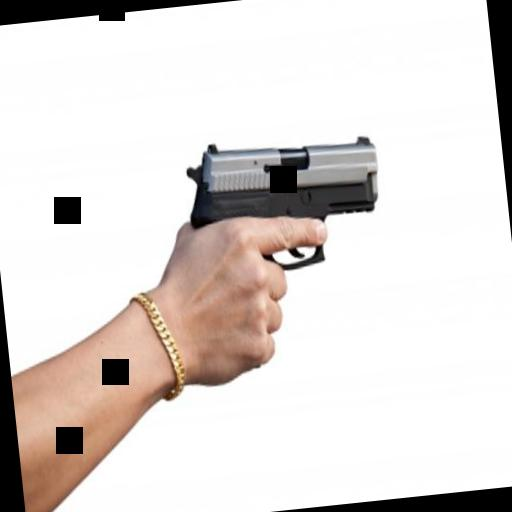Handgun: (178, 118, 398, 393)
